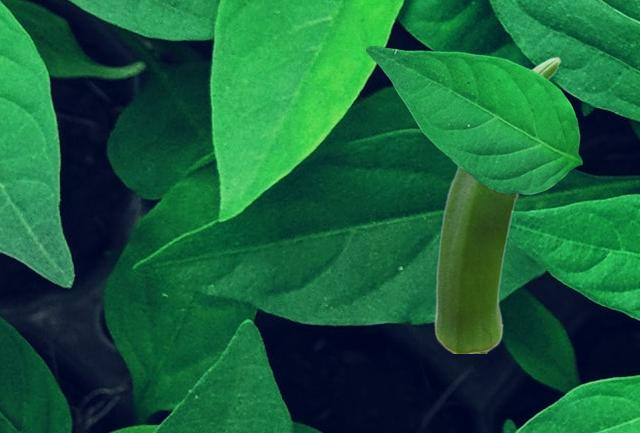okra: (433, 56, 560, 352)
